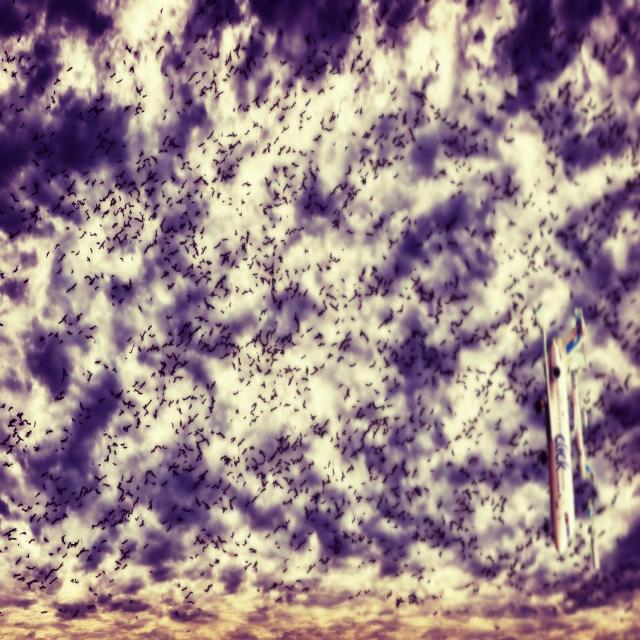airplane: (535, 305, 599, 571)
